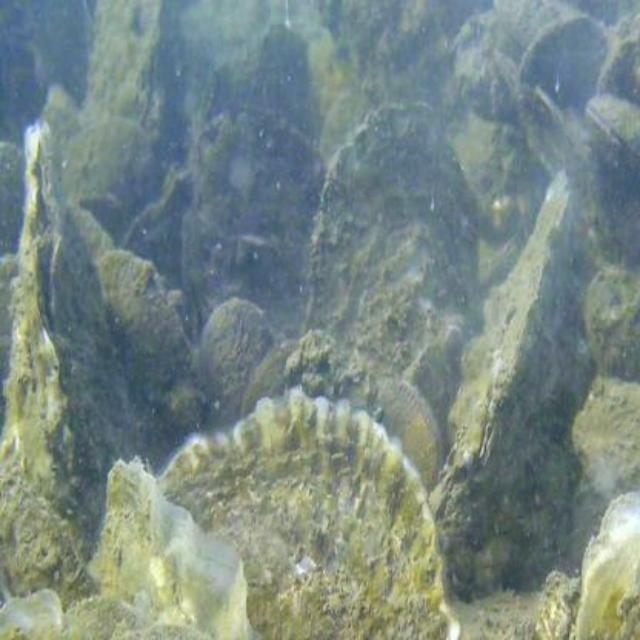Oyster-Closed: (156, 393, 464, 640), (0, 124, 140, 612), (302, 106, 482, 465), (452, 172, 573, 476), (180, 106, 328, 345), (96, 252, 207, 476), (514, 88, 609, 266), (348, 375, 444, 493), (197, 299, 275, 431), (61, 121, 163, 219), (120, 166, 195, 293), (111, 6, 176, 151), (580, 491, 640, 640), (516, 16, 611, 107), (575, 377, 640, 498), (586, 263, 640, 384), (588, 95, 640, 179), (495, 0, 579, 50), (533, 569, 581, 640), (0, 251, 16, 431), (0, 143, 24, 252), (77, 201, 114, 268)
Oyster-Open: (0, 464, 257, 640)
